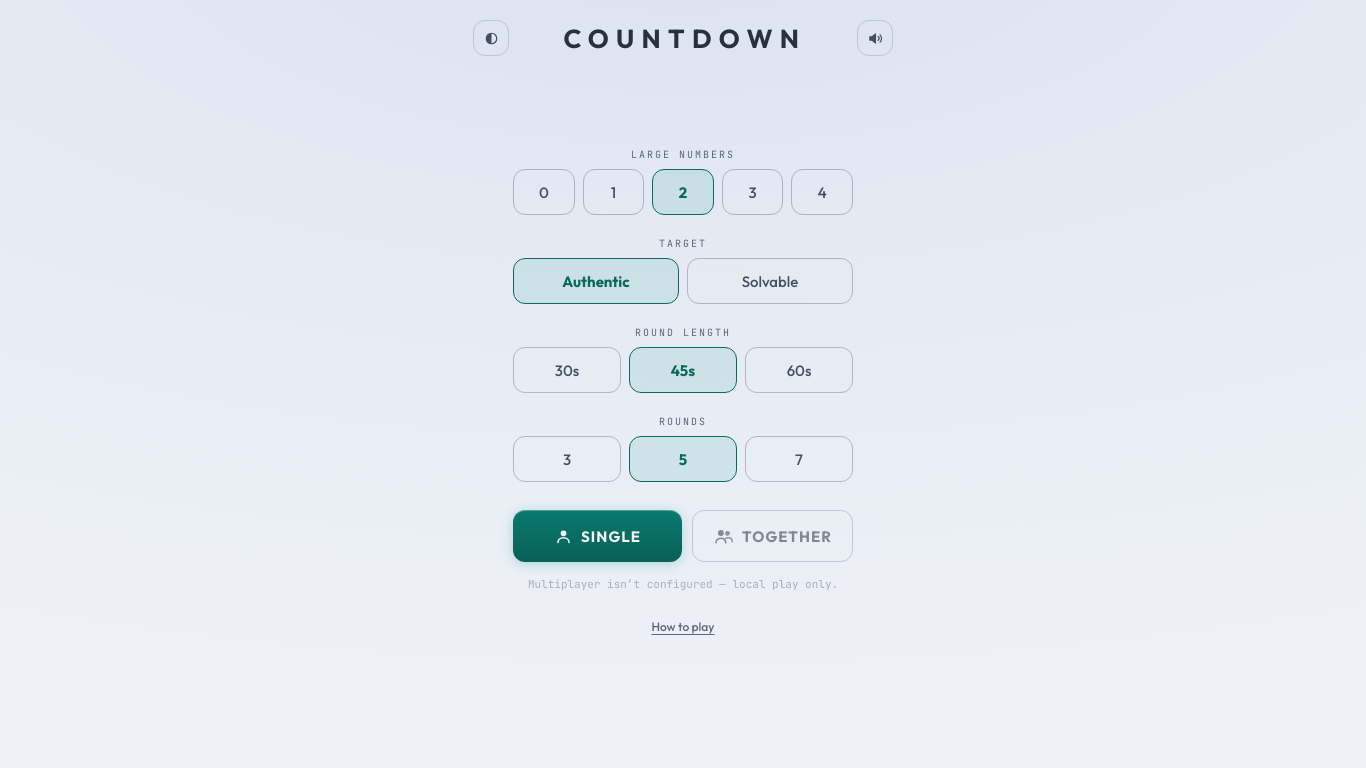
shell opens in single-player › Single starts the local game without a WebSocket
Click the button "Single" at (598, 536), box [513,510,682,562]
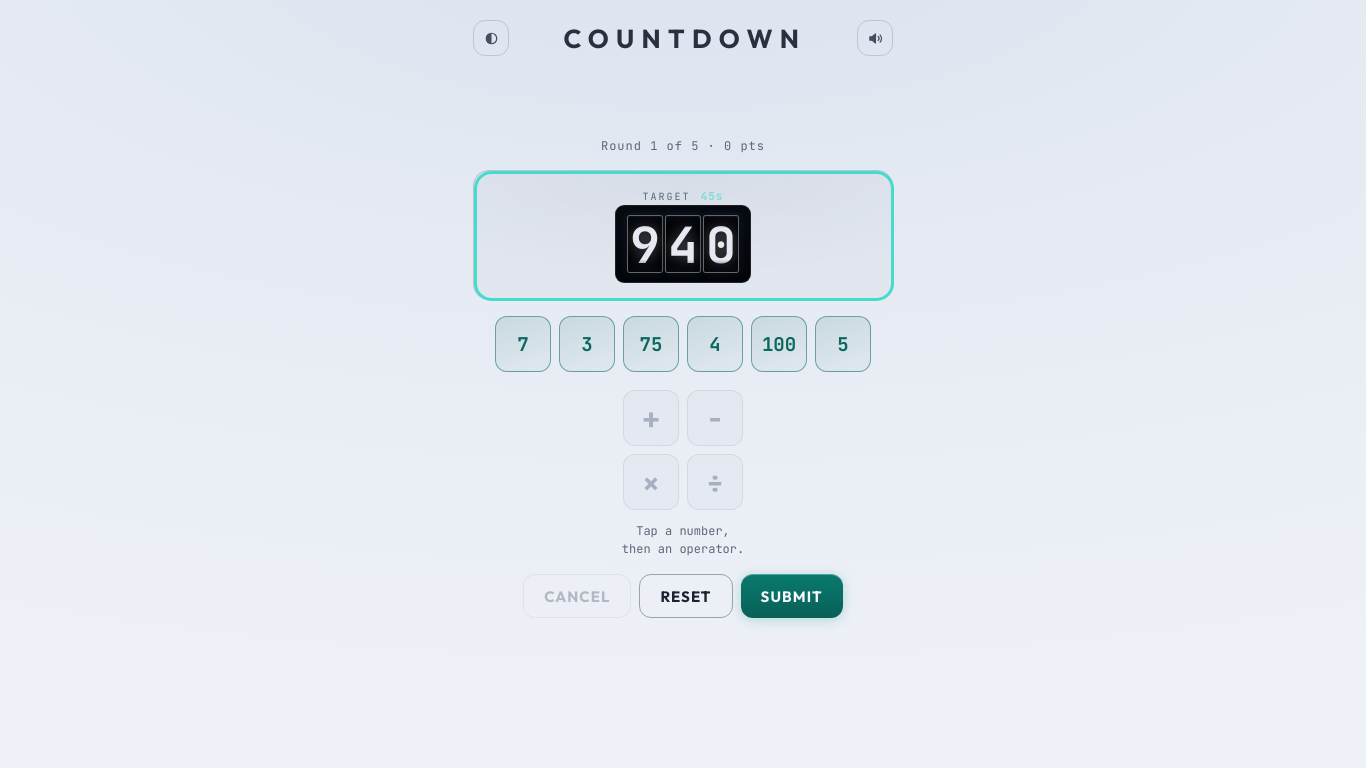
Expected: the button "Submit" is shown, [740,574,843,618]
